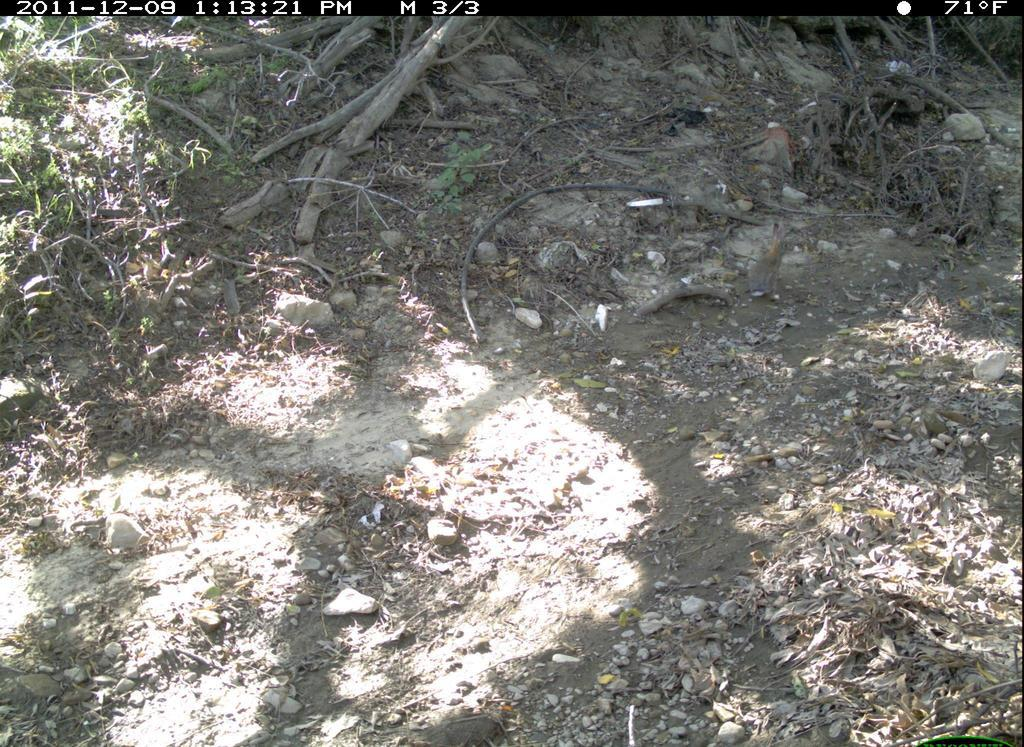rabbit: (752, 219, 793, 306)
